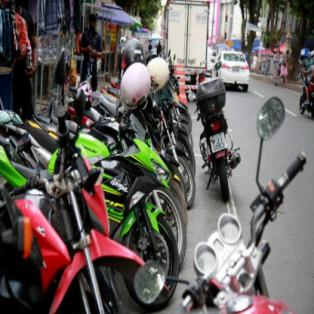Motocicleta: (186, 66, 243, 198)
